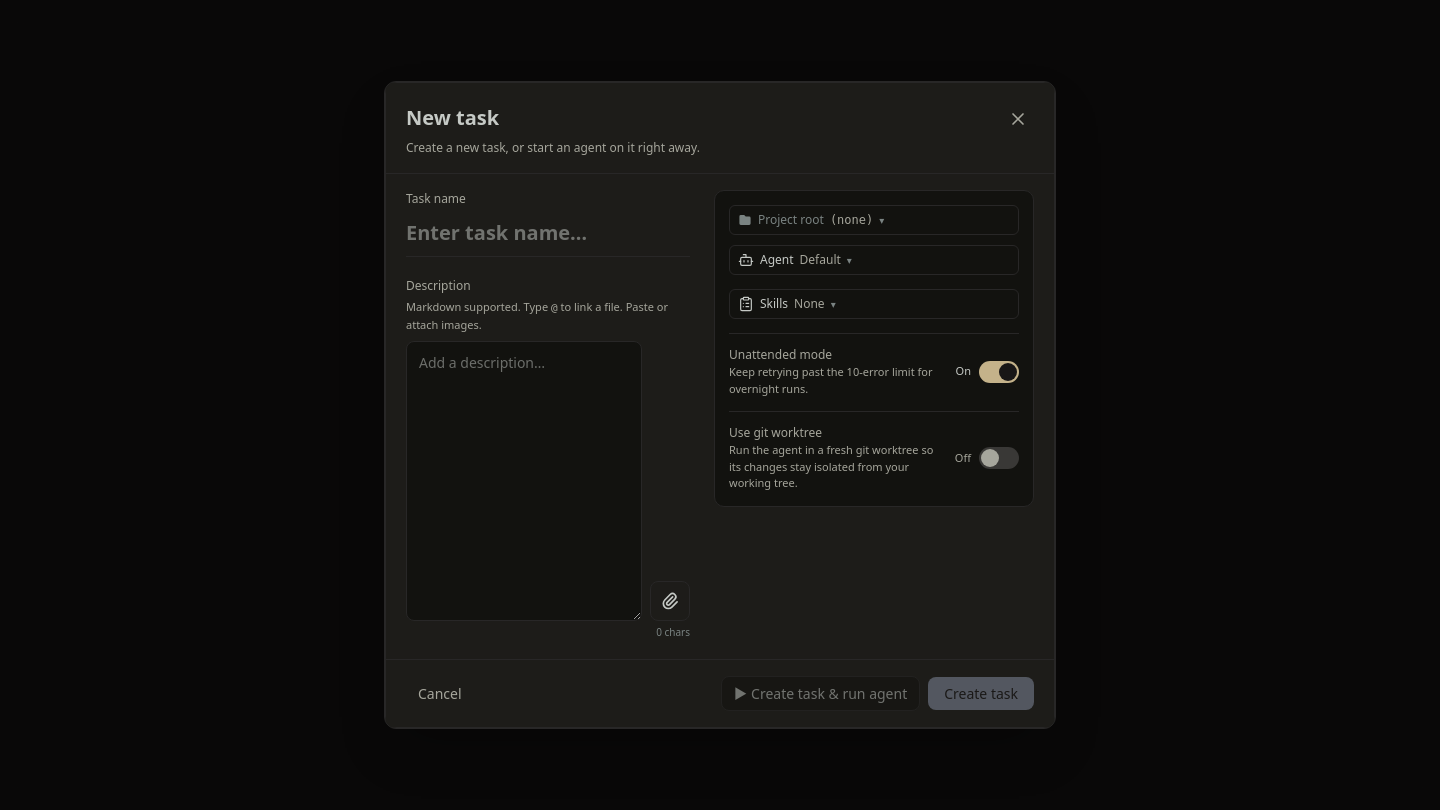
KanbanTaskDetailDialog — skills picker (Migration 112) › picking a row checks it and leaves the dropdown open
Click the button with test id "kanban-task-detail-skill-picker": (809, 304) x1=729 y1=289 x2=1019 y2=319
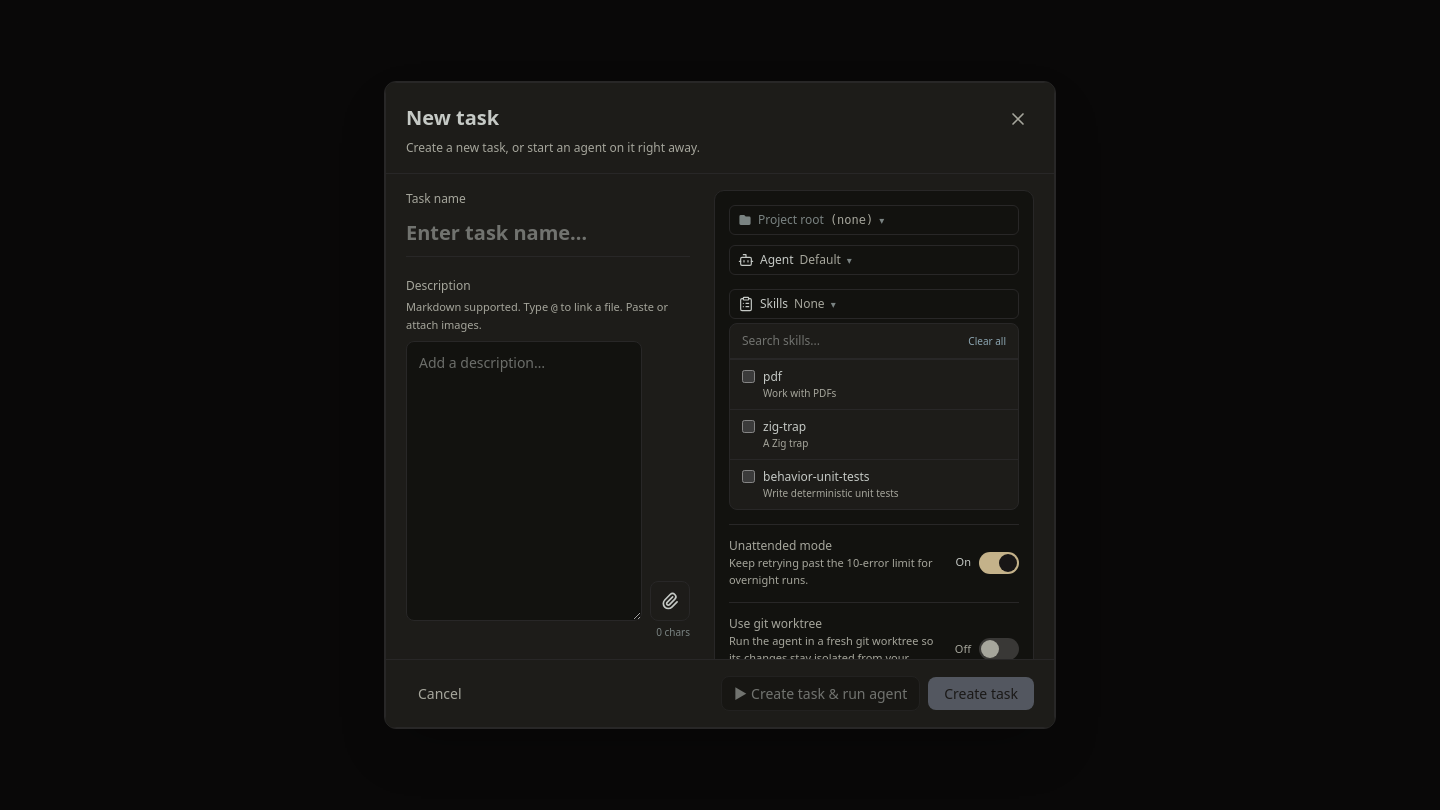
Click the button with test id "kanban-task-detail-skill-picker-item" showing "pdf Work with PDFs": (800, 393) x1=730 y1=359 x2=1018 y2=409
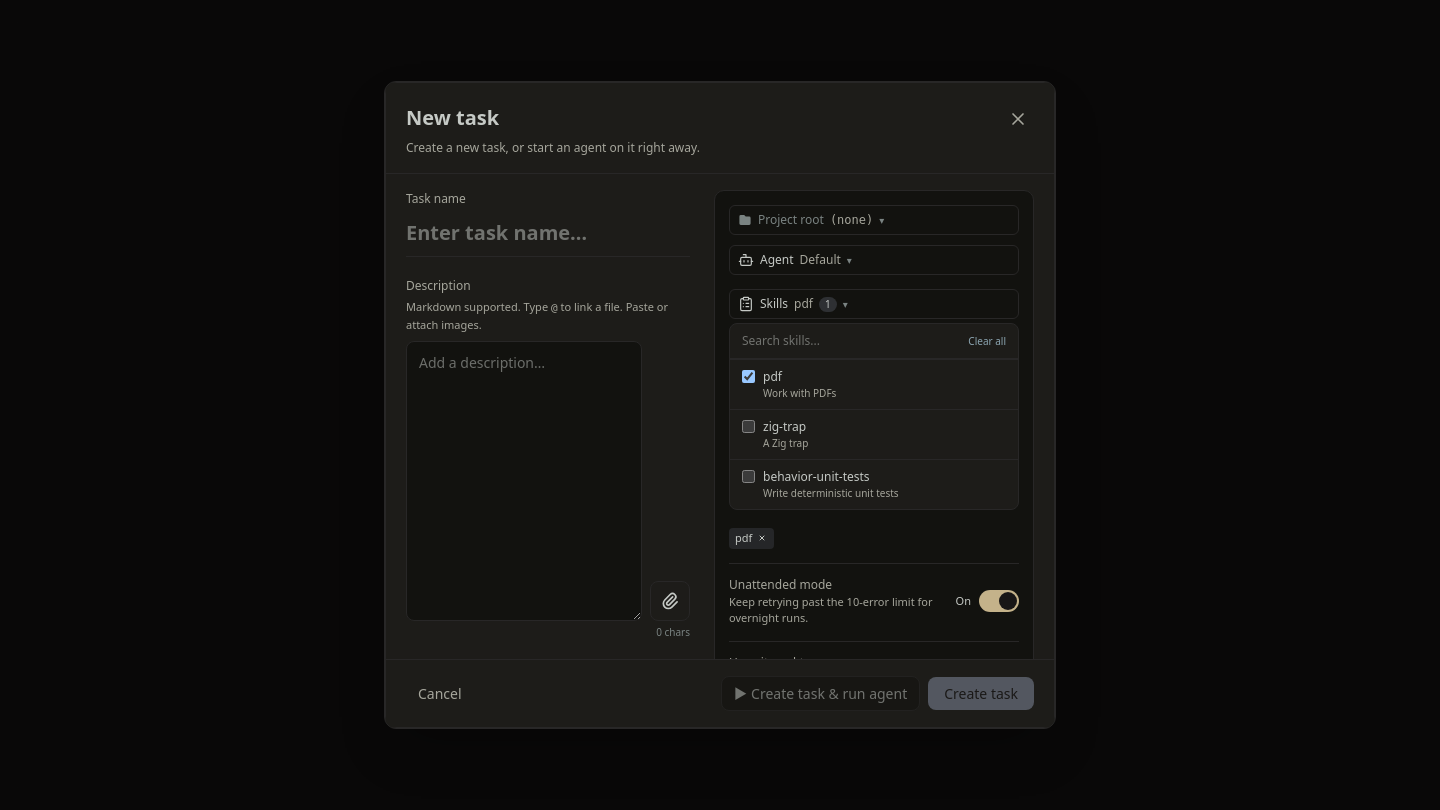
Now the element with test id "kanban-task-detail-skill-picker-dropdown" is shown, box x1=729 y1=323 x2=1019 y2=510
Now the button with test id "kanban-task-detail-skill-picker" shows "pdf", box x1=729 y1=289 x2=1019 y2=319
